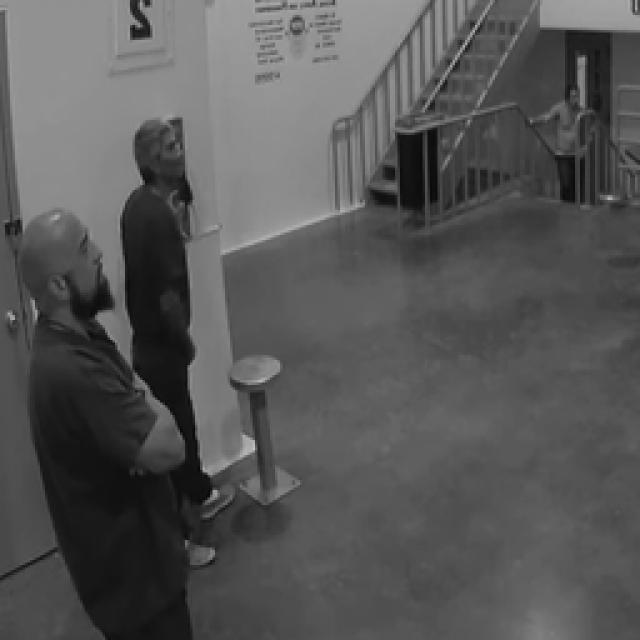Invader: (15, 205, 200, 637), (117, 115, 235, 565), (525, 80, 585, 202)
